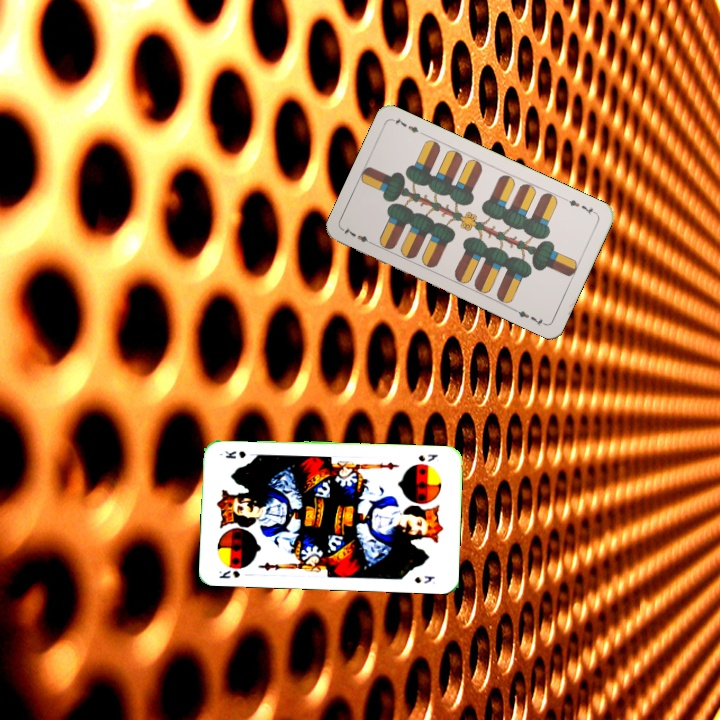E7: (339, 223, 377, 248), (561, 194, 599, 218)
SK: (215, 567, 242, 581), (415, 450, 440, 464)
